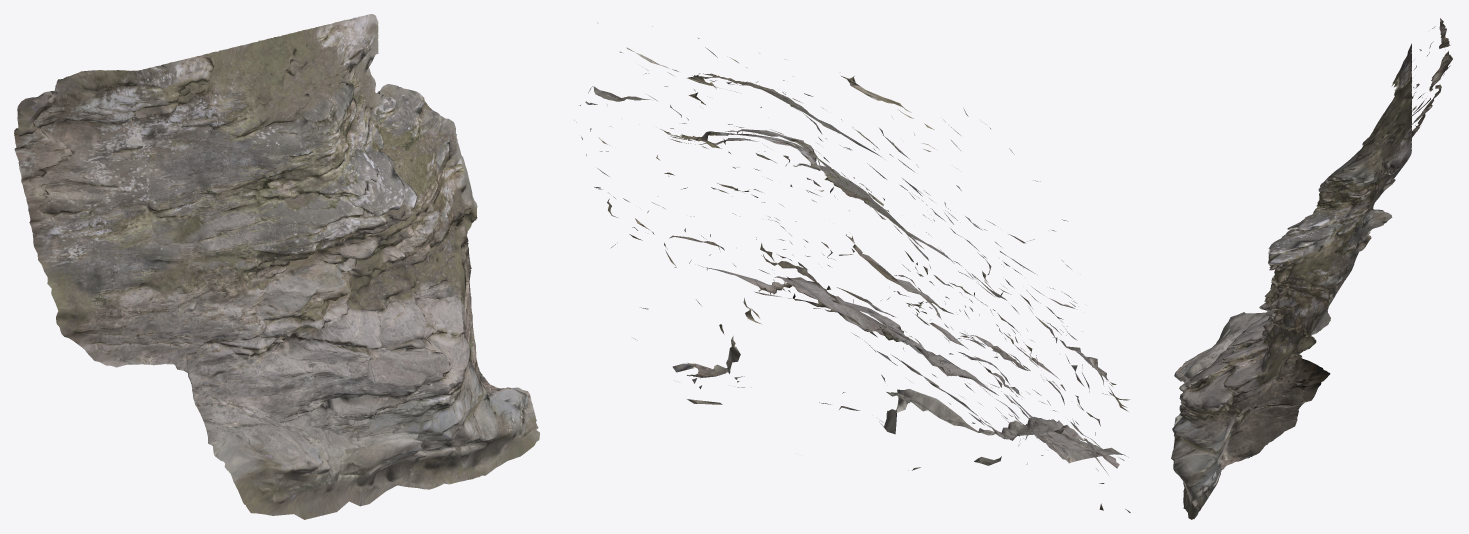
The model's file is cliff_b.glb.
3 renders of one model, left to right at view 1: azimuth 30°, elevation 25°; view 2: azimuth 150°, elevation 25°; view 3: azimuth 270°, elevation 25°, orthographic. The views are drawn at different scales.
Parts seen in each view (by area): view 1: cliff_b; view 2: cliff_b; view 3: cliff_b.
Part boxes in pixels (x1,y1,x2,y2): cliff_b: (14,14,539,519); cliff_b: (574,22,1130,512); cliff_b: (1171,18,1452,519).
Size of the model in its own units: 27.99 by 25.53 by 18.29.
1 material, 1 textured.
